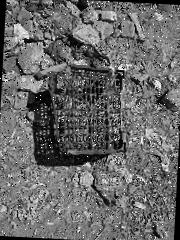general: (124, 10, 150, 40)
plastic: (43, 60, 130, 160)
